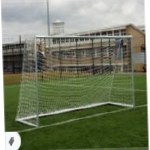goals: (12, 34, 136, 128)
